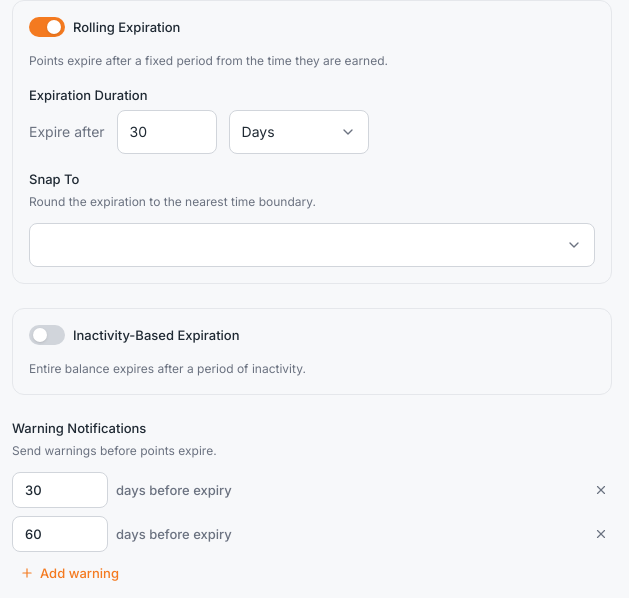
Scenario: ExpirationTabContent rendering › removes a warning day when X button is clicked
Check: the text "days before expiry" is shown 2 times, box [116,481,232,499]; [116,525,232,543]
Click the button named "Remove warning day 1" at (601, 490), box [590,479,612,501]
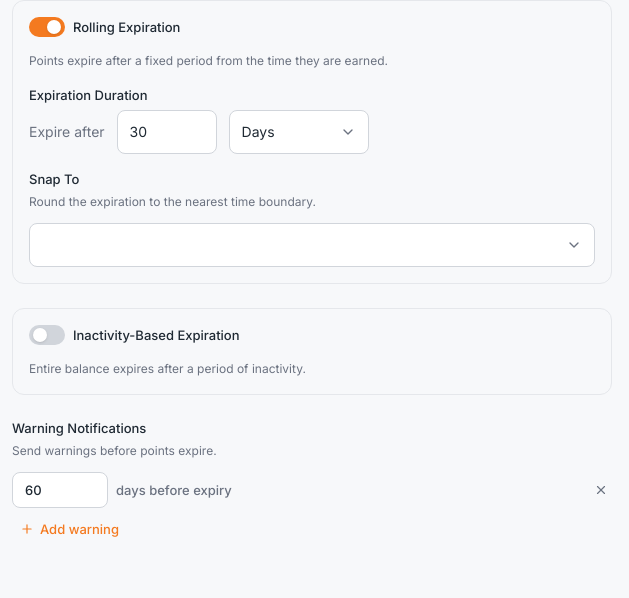
Check: the text "days before expiry" is shown once, box [116,481,232,499]
